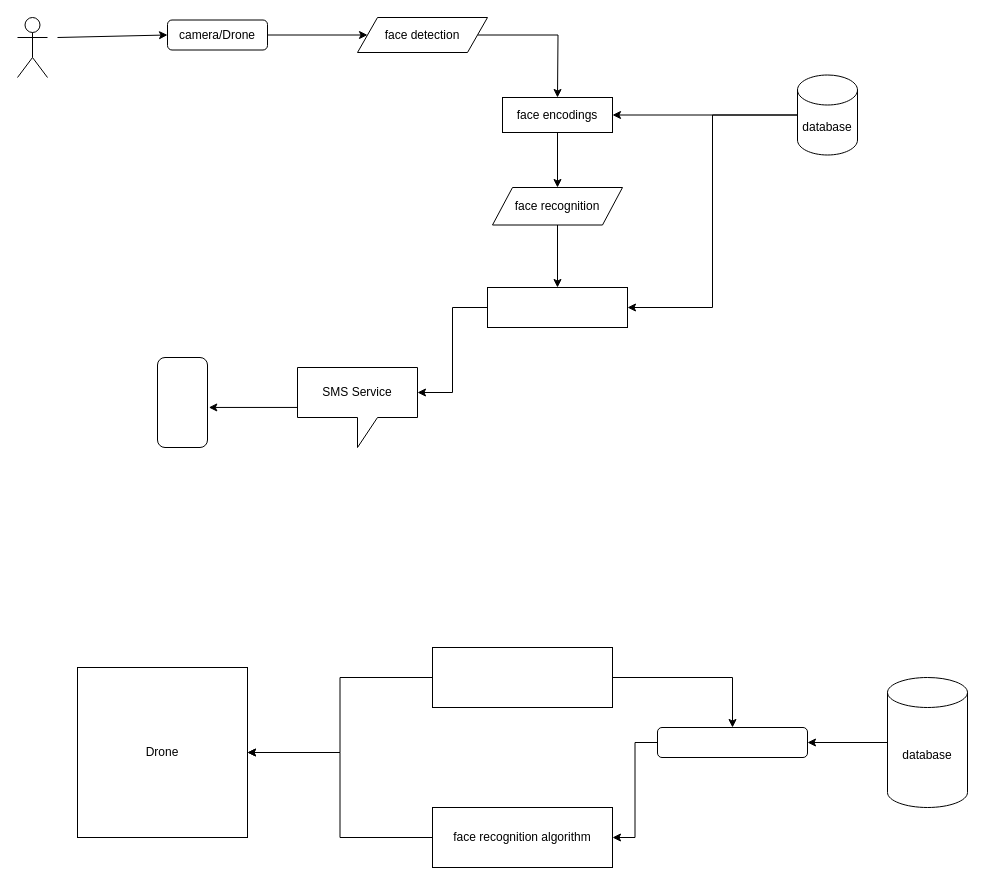
Some shapes in this 985 by 885 pixel diagram are drawn without their labels. The box of each missing label's shape, as (x1, y1, x2, y2) in pixels:
Actor: (16, 16, 48, 78)
details of the person downloaded: (486, 286, 628, 328)
face detection algorithm: (432, 646, 612, 708)
face encoding: (656, 726, 808, 758)
SMS to Admin: (156, 356, 208, 448)
